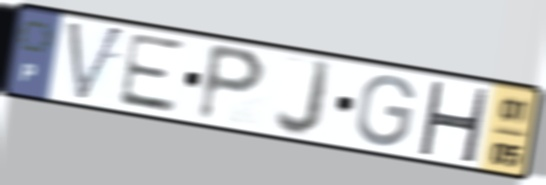E: (114, 29, 187, 116)
G: (353, 72, 419, 150)
H: (415, 78, 491, 166)
J: (272, 57, 336, 140)
P: (193, 39, 270, 126)
V: (64, 18, 129, 107)
